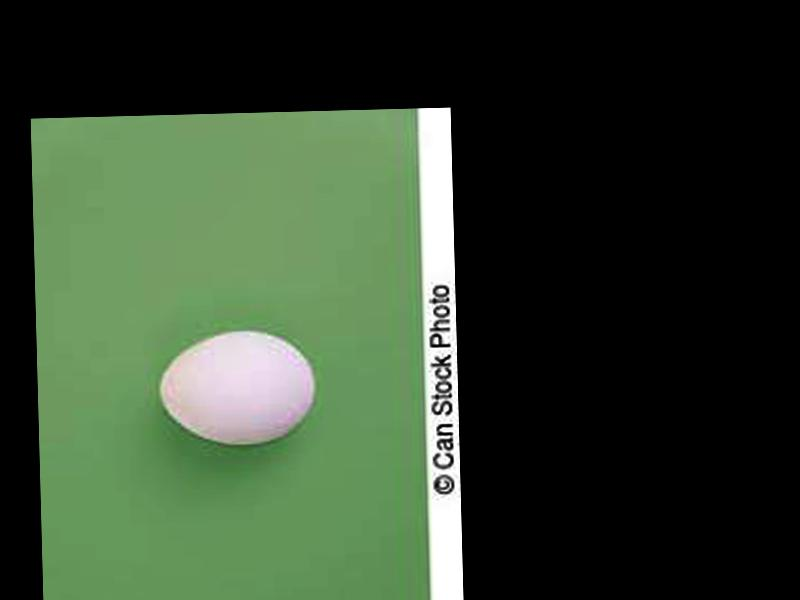Eggs: (159, 331, 315, 446)
